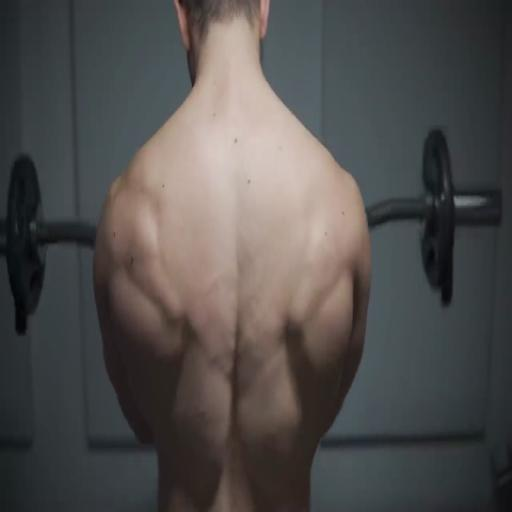exercise: (90, 0, 376, 511)
